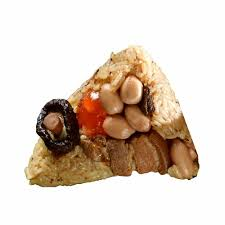zongzi: (25, 47, 198, 185)
